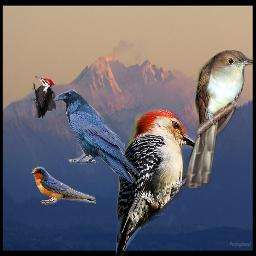Crow: (53, 89, 139, 183)
Cuckoo: (186, 49, 253, 188)
Swallow: (30, 166, 96, 206)
Woodpecker: (116, 109, 211, 256), (31, 76, 56, 118)
